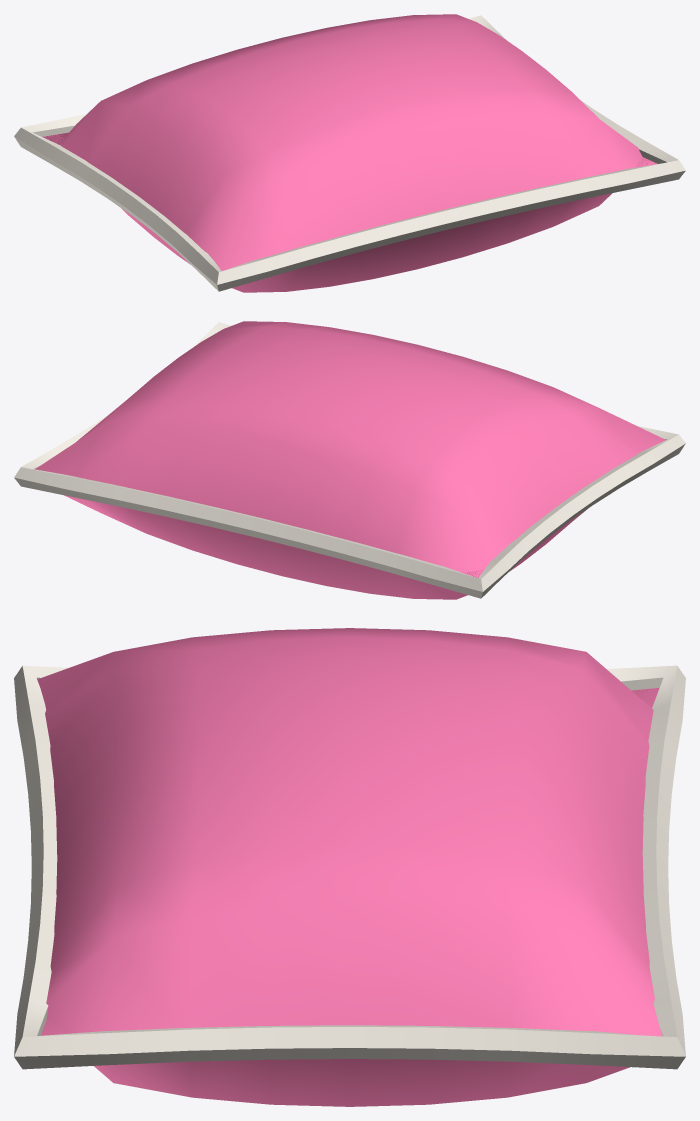
The model's file is Pillow.fbx.
3 renders of one model, top to bottom at view 1: azimuth 30°, elevation 25°; view 2: azimuth 150°, elevation 25°; view 3: azimuth 270°, elevation 25°, orthographic. The views are drawn at different scales.
Parts seen in each view (by area): view 1: Pillow; view 2: Pillow; view 3: Pillow.
Boxes of the visible parts, left/top/right/bottom form: Pillow: left=14, top=14, right=685, bottom=292; Pillow: left=14, top=321, right=685, bottom=599; Pillow: left=14, top=628, right=685, bottom=1106.
Bounding box in the file's own units: 0.4 × 0.15 × 0.3.
